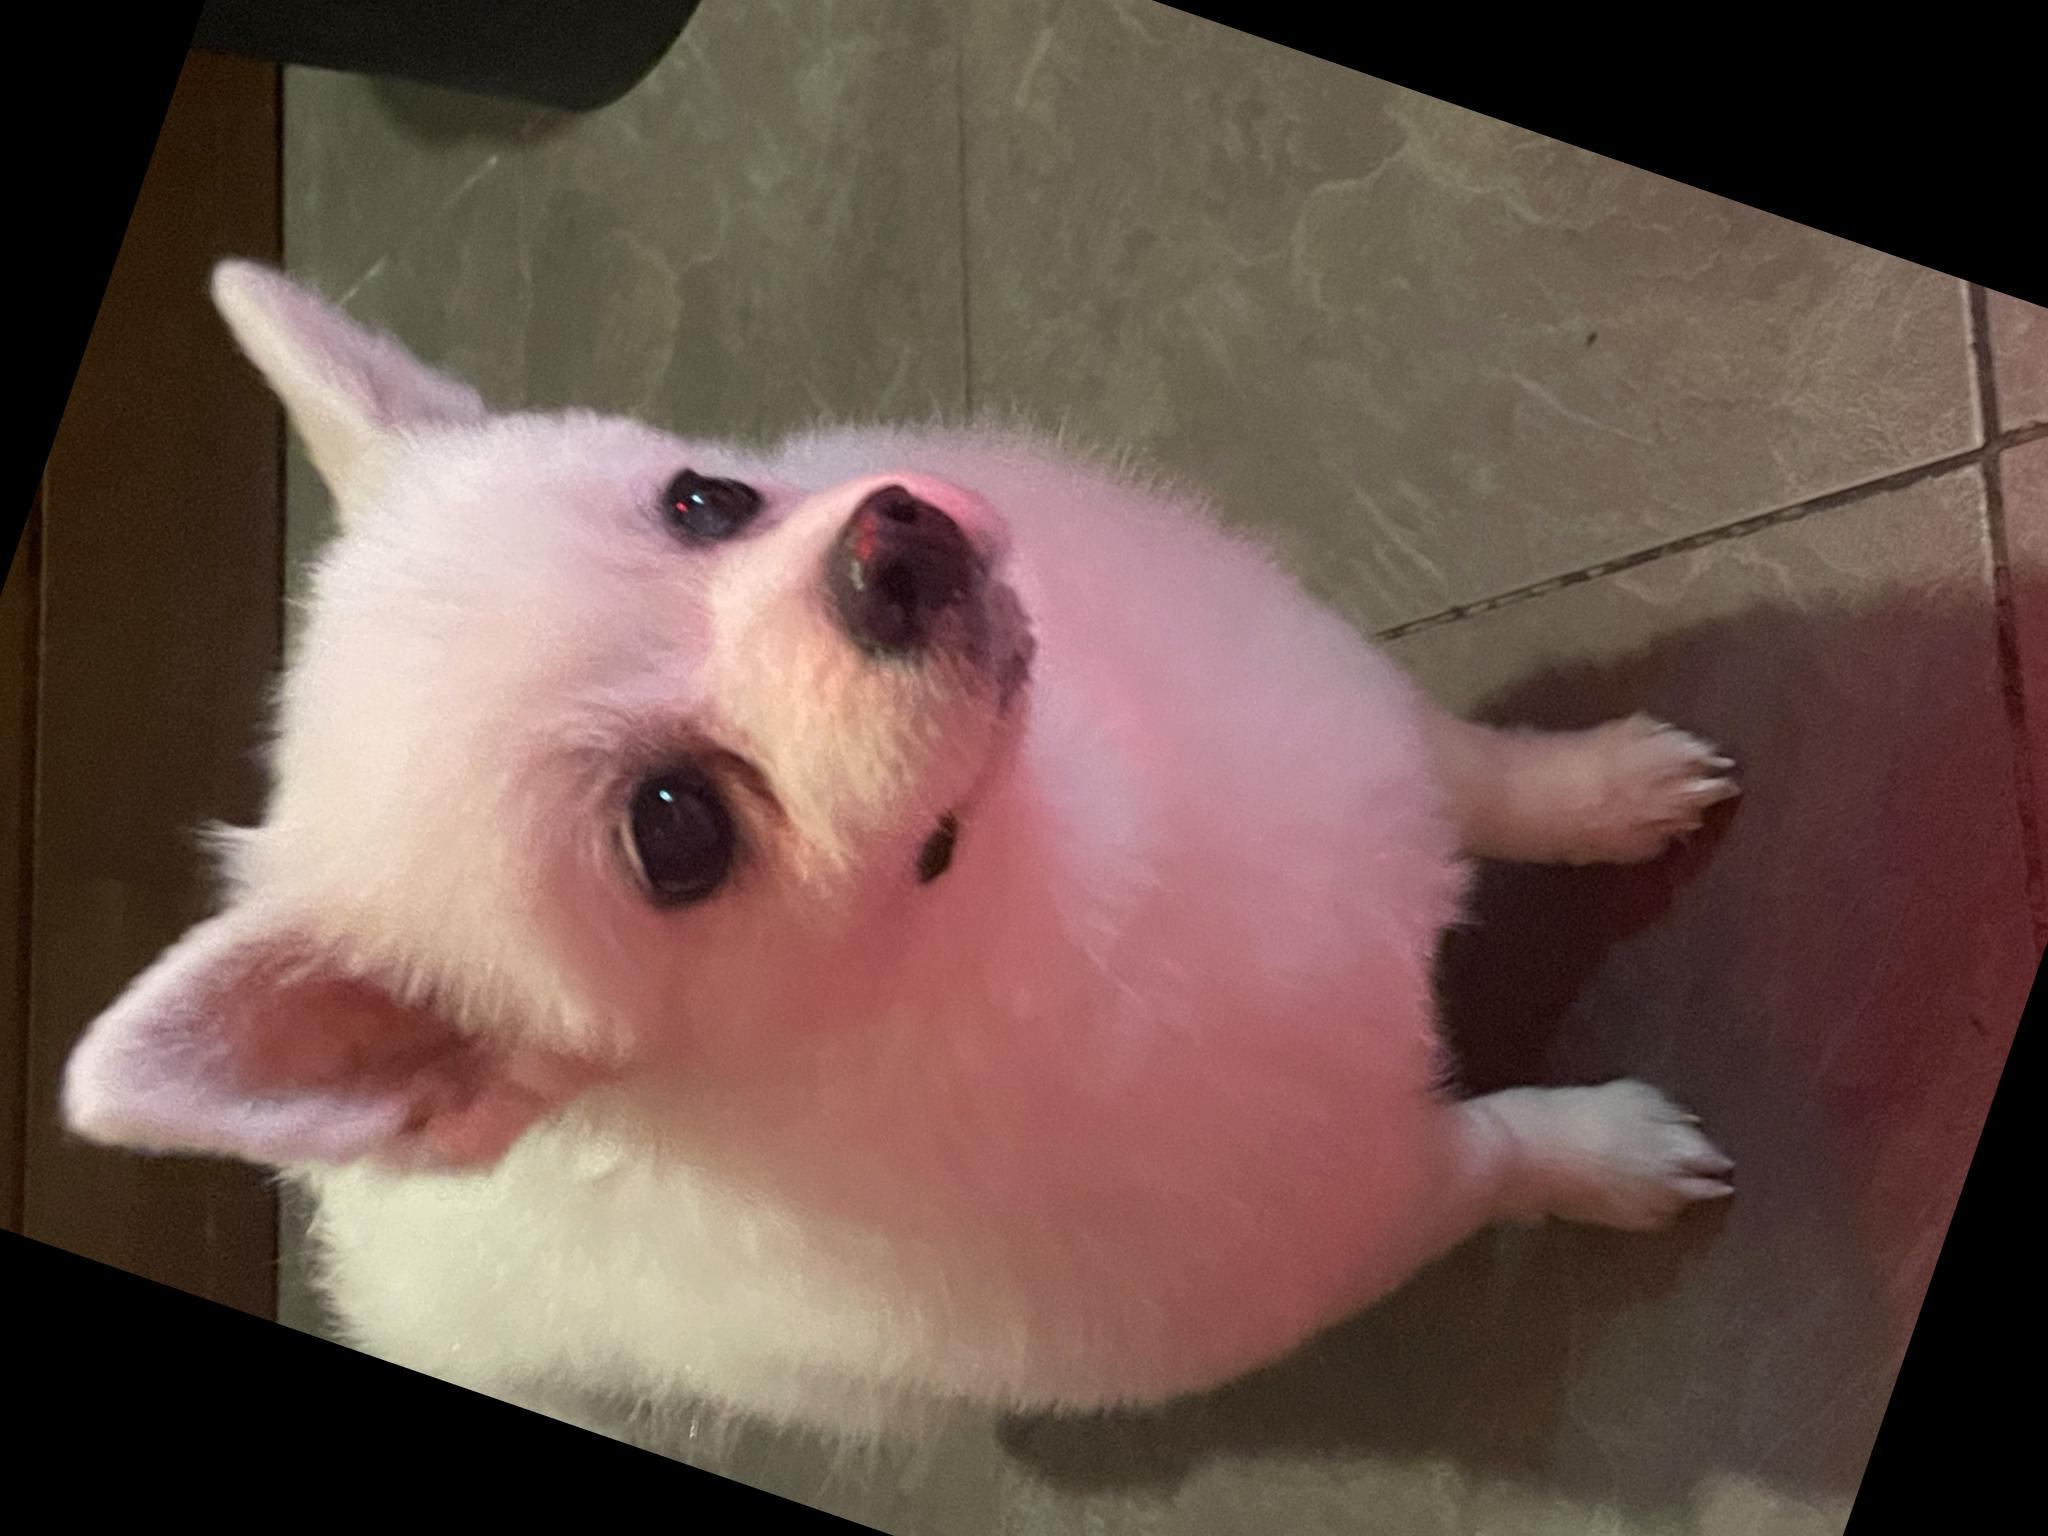dog: (0, 0, 1317, 1518)
